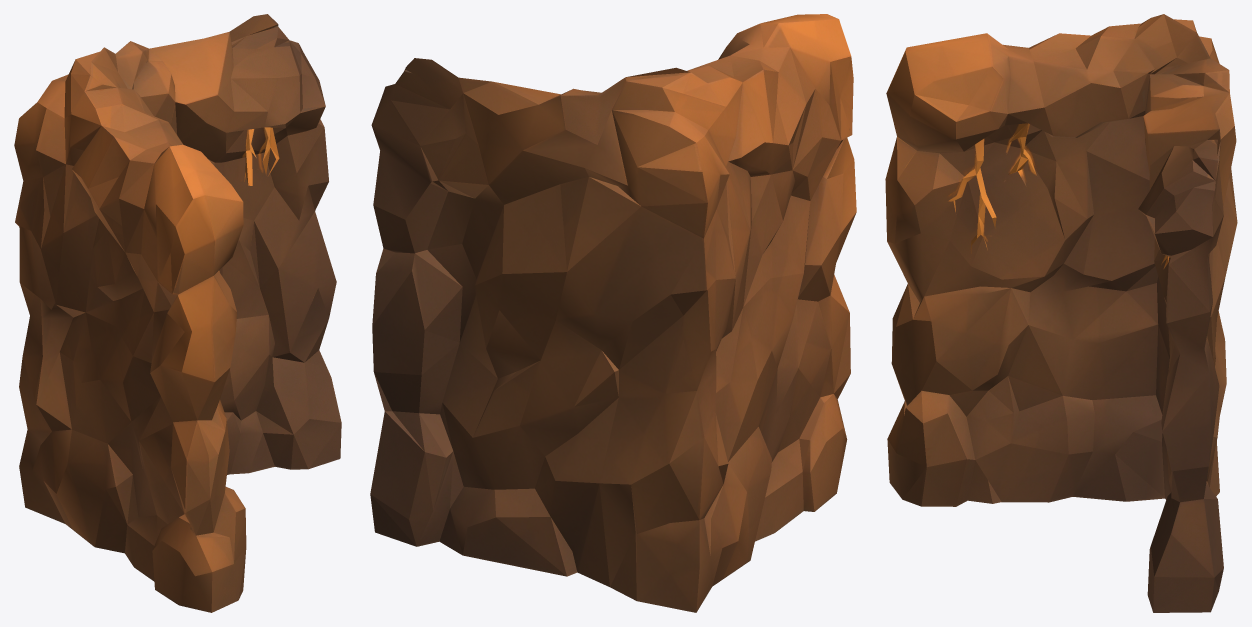
File: TWN_WAL_cavern_corner_A.glb
3 renders of one model, left to right at view 1: azimuth 30°, elevation 25°; view 2: azimuth 150°, elevation 25°; view 3: azimuth 270°, elevation 25°, orthographic. The views are drawn at different scales.
Parts seen in each view (by area): view 1: Mesh_0; view 2: Mesh_0; view 3: Mesh_0.
Part boxes in pixels (x1=…): Mesh_0: x1=14, y1=14, x2=341, y2=612; Mesh_0: x1=370, y1=14, x2=856, y2=612; Mesh_0: x1=885, y1=14, x2=1237, y2=612.
Bounding box in the file's own units: 1.31 × 1.9 × 1.28.
Materials: 1 (1 with a texture image).
